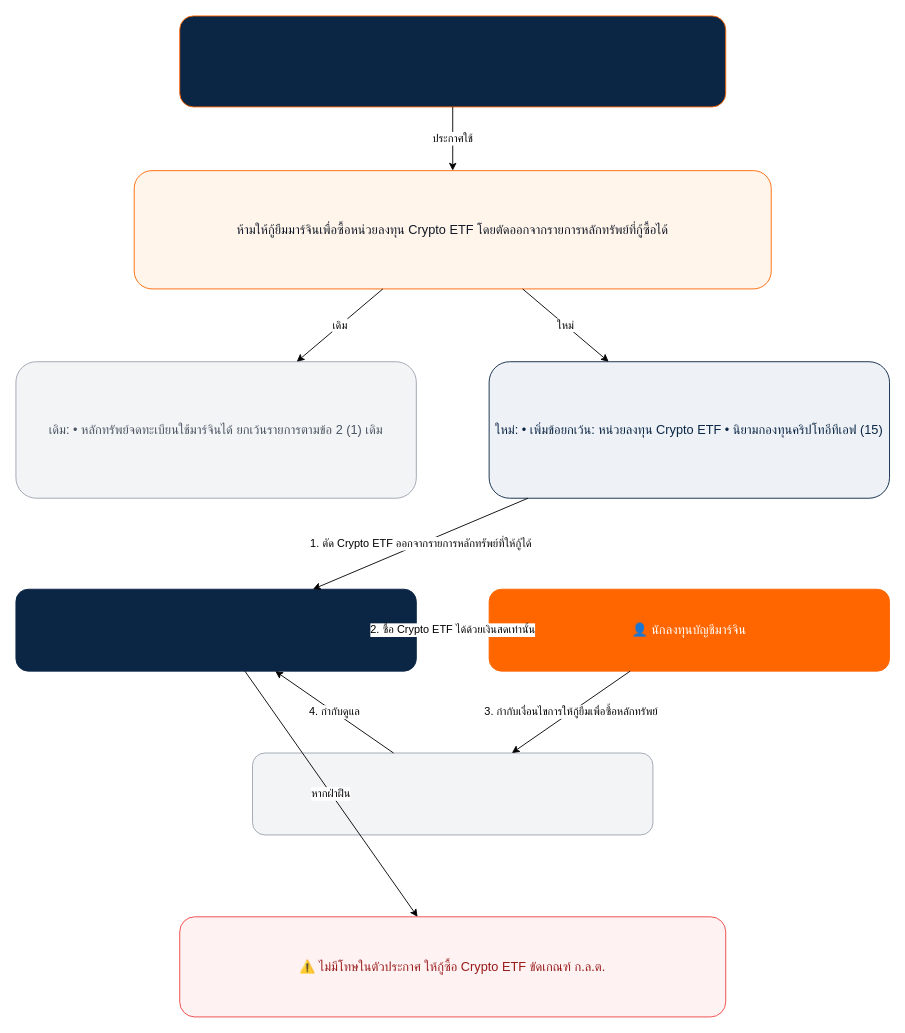
The diagram is 905 pixels wide and 1033 high, and some of its shapes have lost their labels. The shapes that lost their labels are listed below. From the top down, each one's centre as x and y in pixels, then its label:
At point 452,61: "ทธ.23/2569 ห้ามมาร์จินซื้อ Crypto ETF".
At point 215,629: "🏢 บริษัทหลักทรัพย์".
At point 452,793: "🏛️ ก.ล.ต.".
